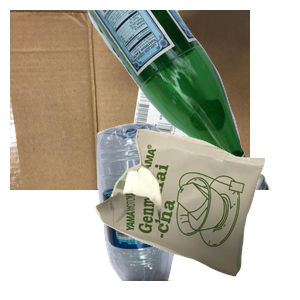cardboard: (10, 10, 250, 190)
glass: (75, 10, 300, 190)
plastic: (94, 120, 267, 300)
trash: (93, 126, 300, 300)
